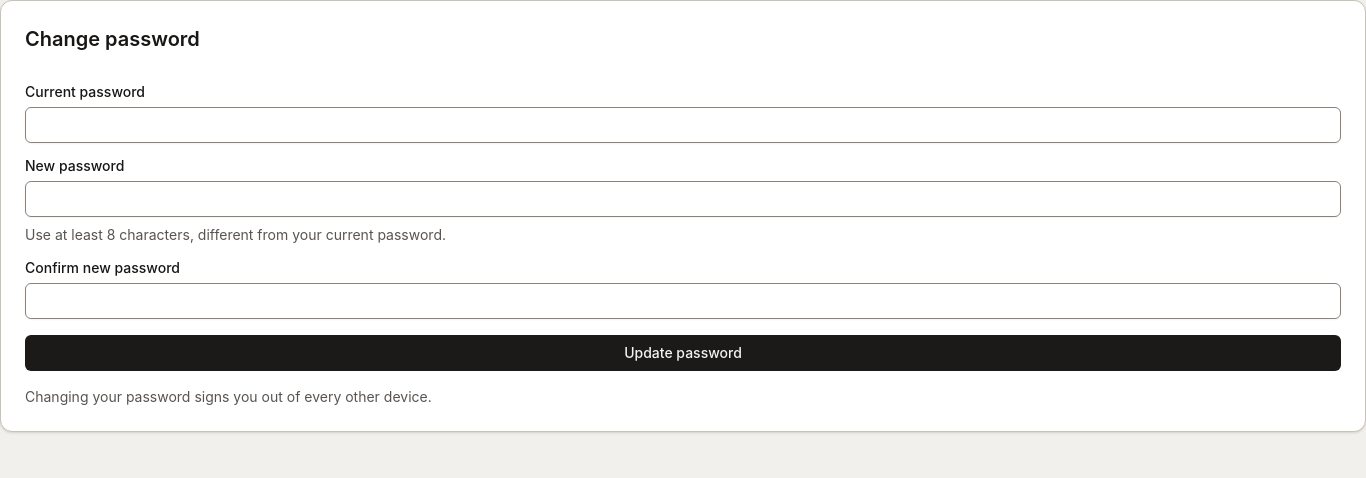
Test: ChangePassword › rejects new === current inline
Type "samepassword-1" into the password field labelled "Current password" at (683, 125), box 25,107 -> 1341,143
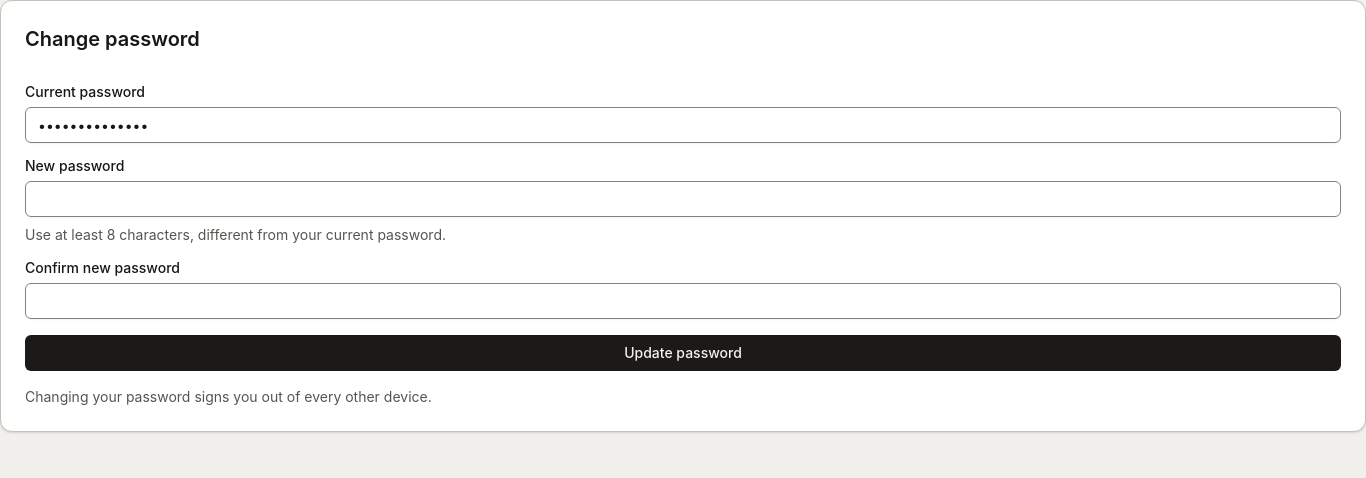
Type "samepassword-1" into the password field labelled "New password" at (683, 199), box 25,181 -> 1341,217
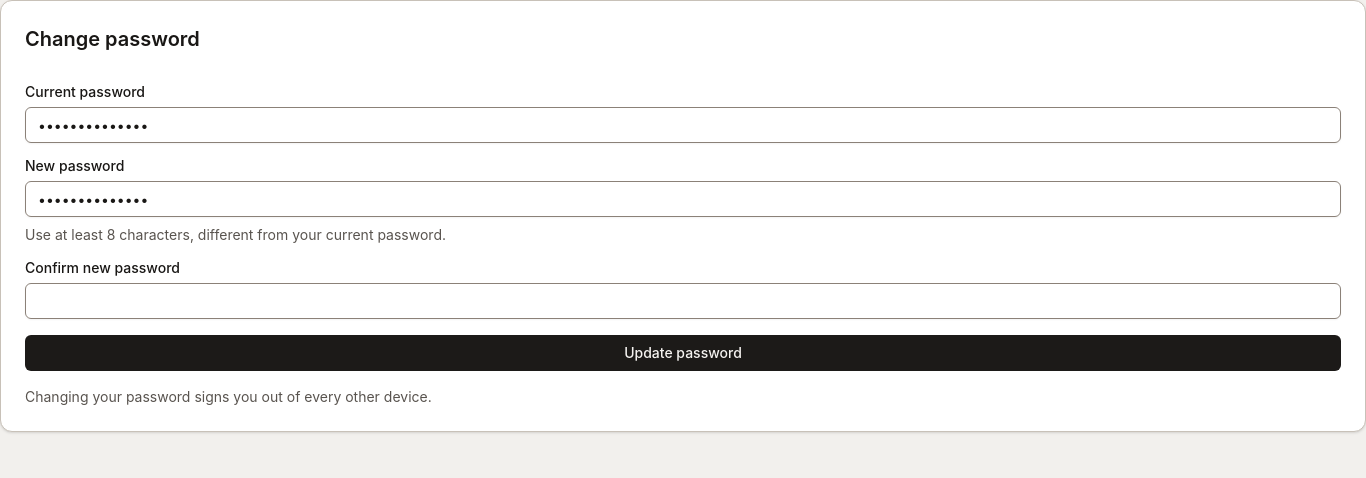
Type "samepassword-1" into the password field labelled "Confirm new password" at (683, 301), box 25,283 -> 1341,319
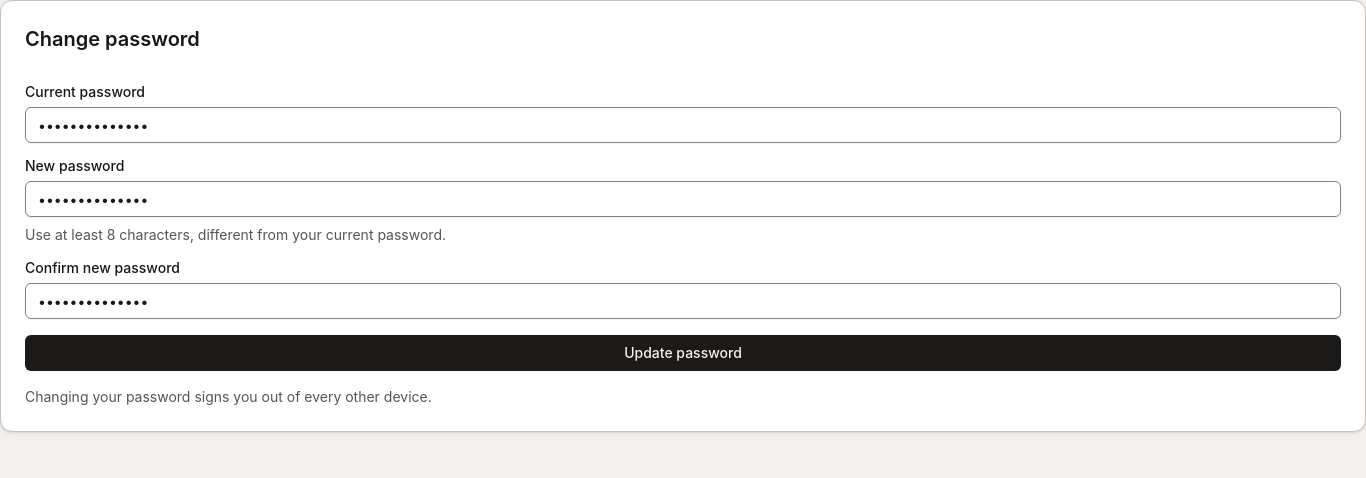
Click the button "Update password" at (683, 353), box 25,335 -> 1341,371
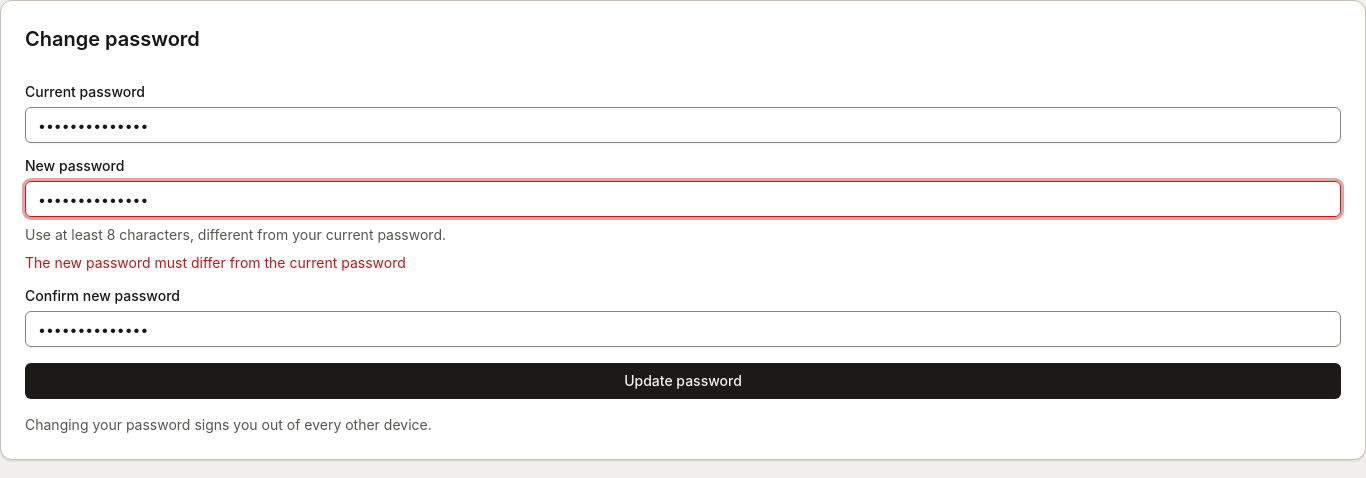
Result: the text "The new password must differ from the current password" is shown at 25,254 -> 406,271
